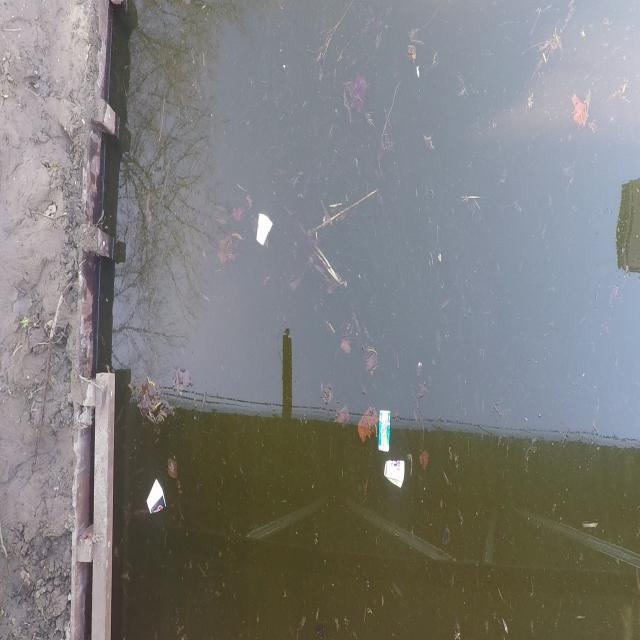Non plastique: (145, 476, 170, 521), (382, 458, 411, 496), (374, 406, 396, 456), (252, 210, 276, 255)
